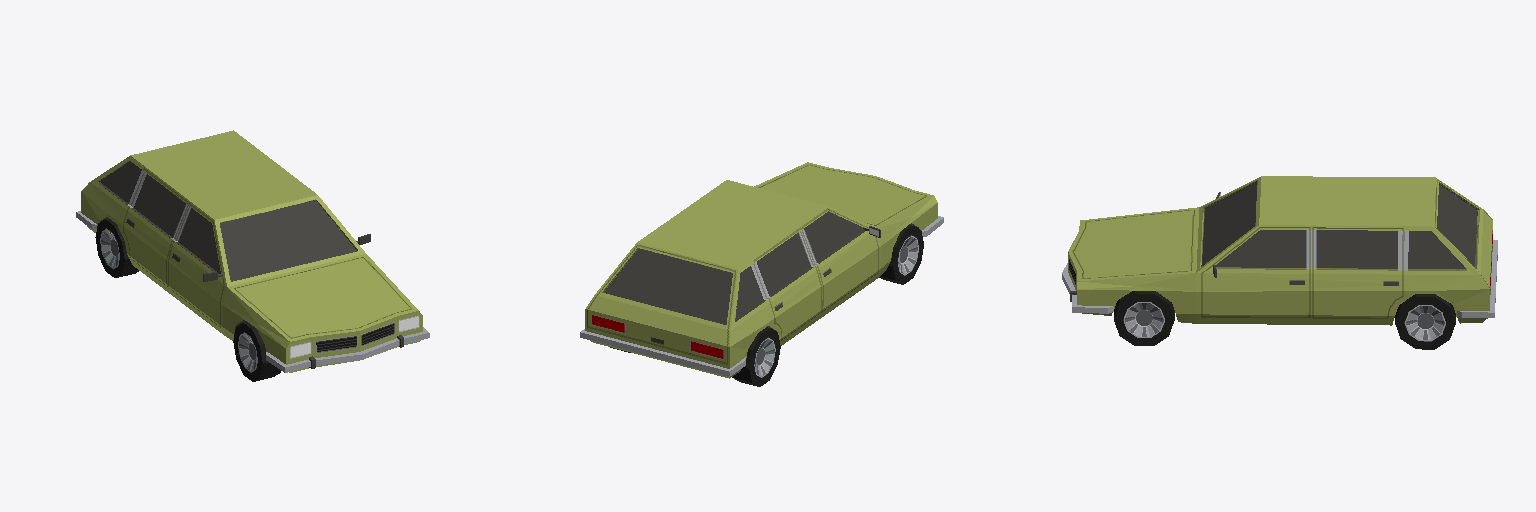
The picture shows the model from 3 angles: view 1: azimuth 30°, elevation 25°; view 2: azimuth 150°, elevation 25°; view 3: azimuth 270°, elevation 25°; orthographic projection.
Parts seen in each view (by area): view 1: Object010, Object013, Object014; view 2: Object010, Object014, Object013; view 3: Object010, Object011, Object012.
Boxes of the visible parts, x1,y1,x2,y2 form: Object010: [76, 130, 429, 372]; Object013: [233, 322, 280, 381]; Object014: [95, 218, 138, 277]; Object010: [580, 162, 943, 378]; Object014: [732, 327, 780, 386]; Object013: [879, 225, 923, 284]; Object010: [1062, 176, 1497, 325]; Object011: [1114, 291, 1174, 345]; Object012: [1395, 294, 1455, 349].
Bounding box in the file's own units: 101 × 65.35 × 230.
Materials: 1 (1 with a texture image).